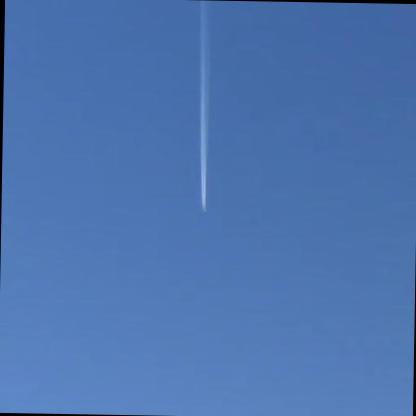plane: (193, 204, 209, 216)
